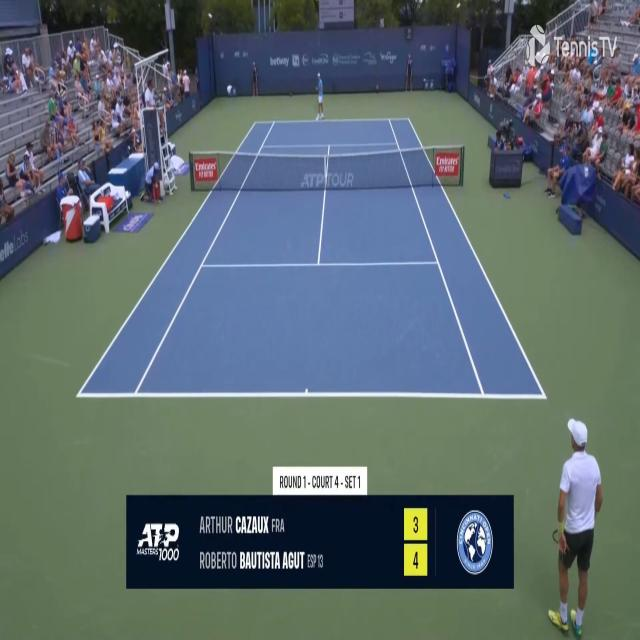tennis-player: (547, 412, 606, 639), (313, 71, 326, 122)
